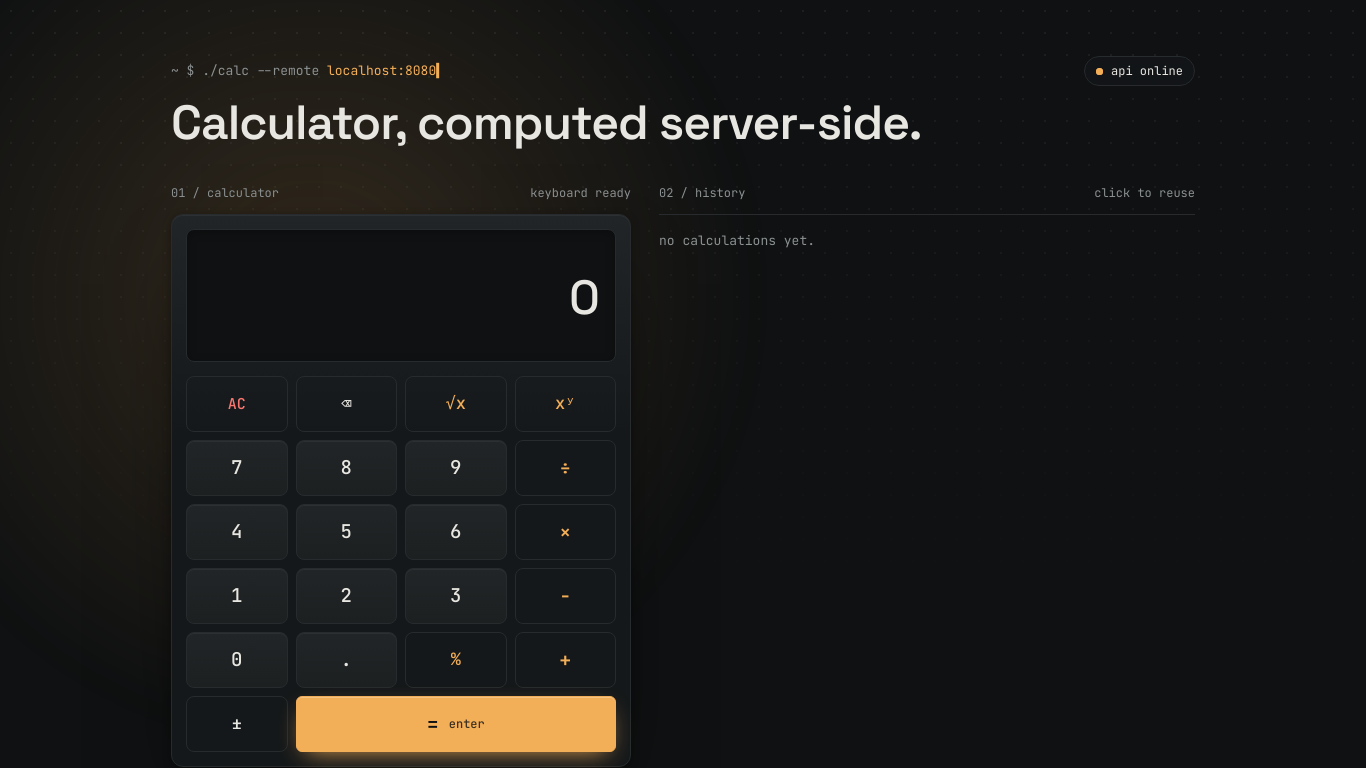
App › computes a square root typed after the √ key
The width and height of the screenshot is (1366, 768).
Click the button named "square root" at (456, 404), box [405,376,506,432]
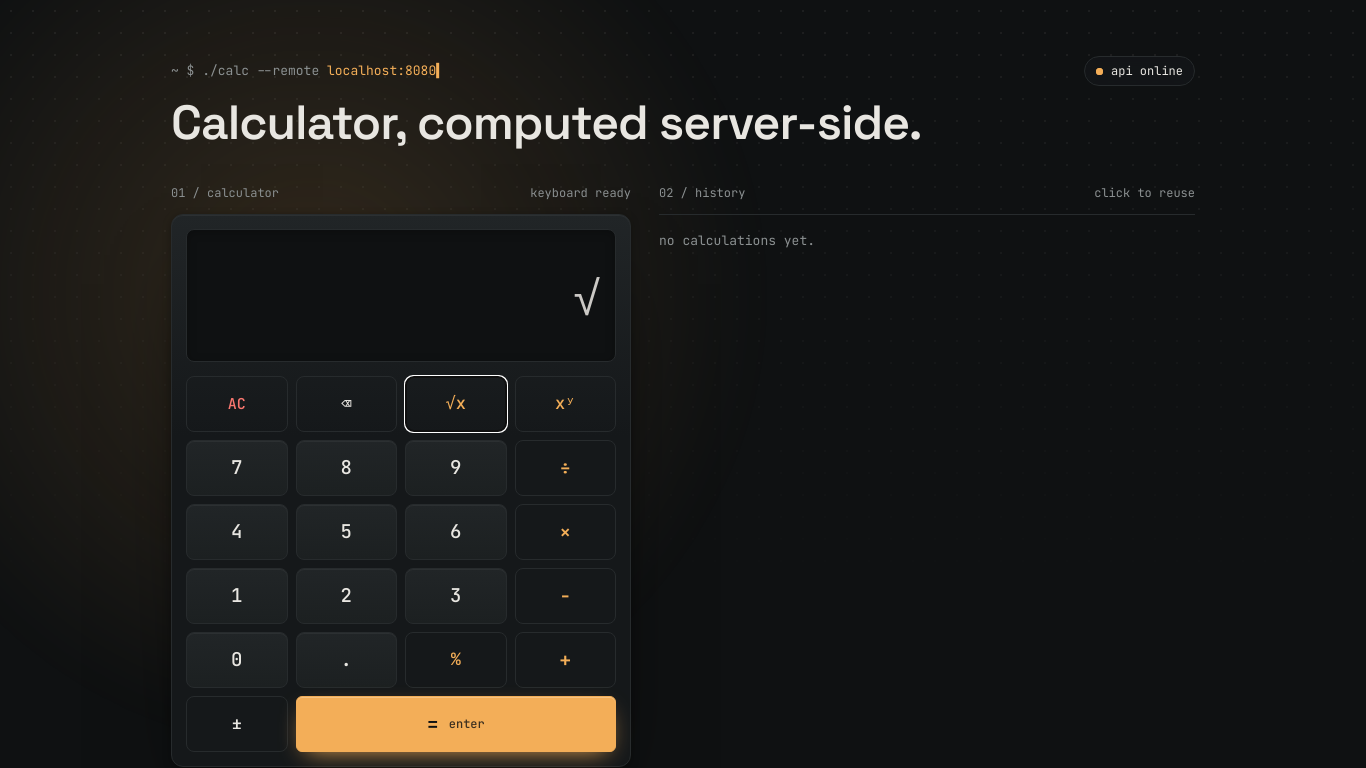
Check: the text named "display value" reads "√", box [574,268,599,328]
Click the button "1" at (237, 596), box [186,568,288,624]
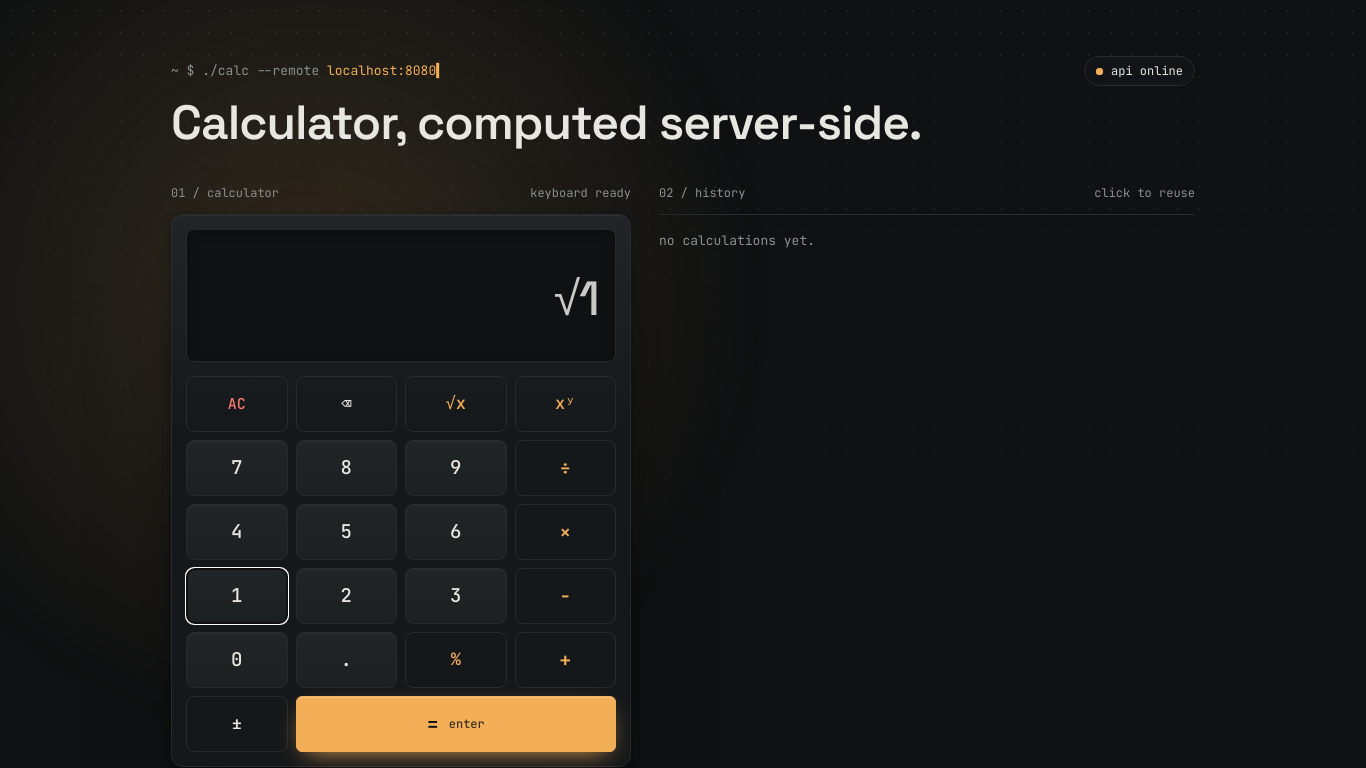
Click the button "6" at (456, 532), box [405,504,506,560]
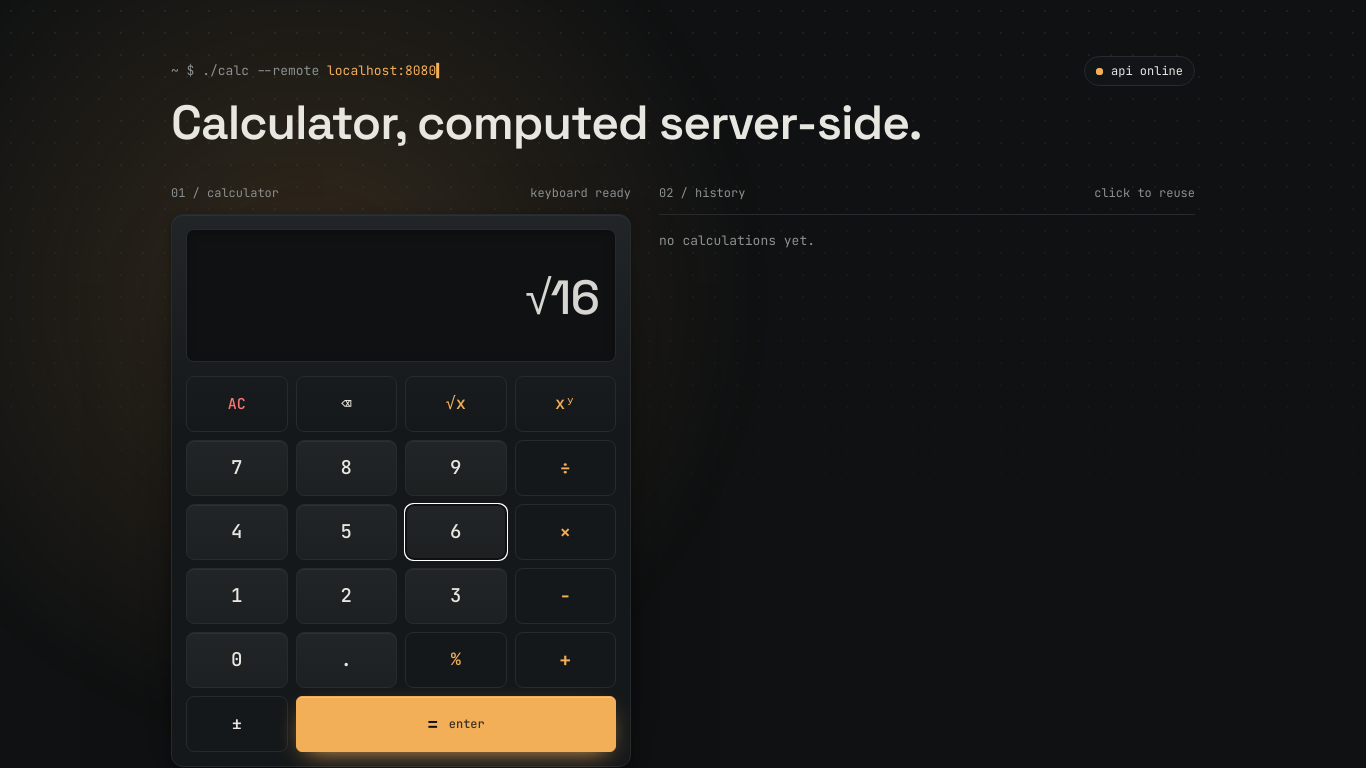
Check: the text named "display value" reads "√16", box [525,267,599,328]
Click the button with aria-label "equals" at (456, 724), box [296,696,616,752]
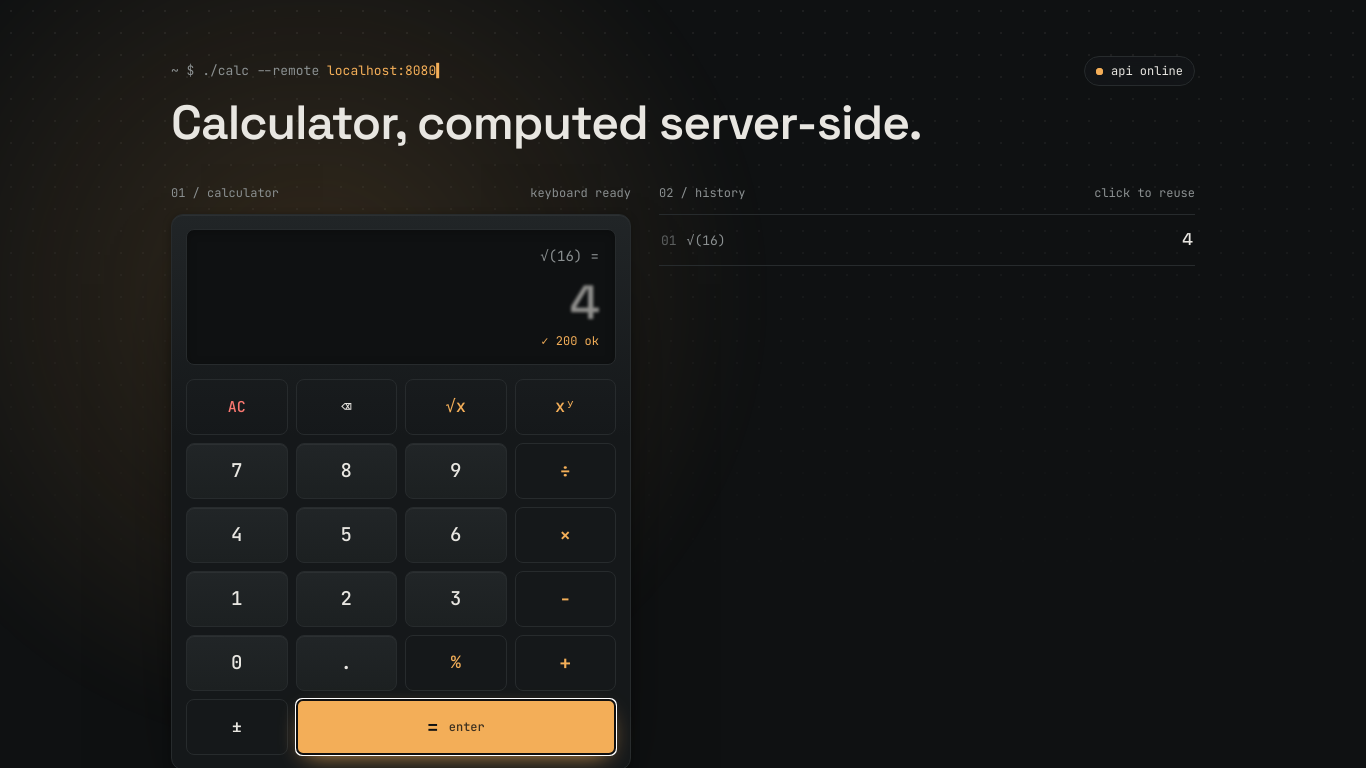
Check: the text "√(16) =" is shown, box [540,246,599,267]
